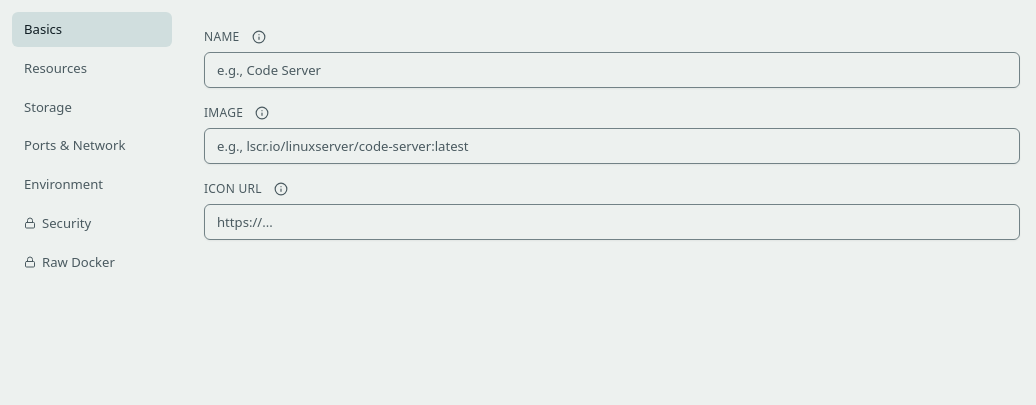
TemplateBuilder › renders section rail and switches to Resources panel
Click the button "Resources": (92, 68) [12, 51, 172, 86]
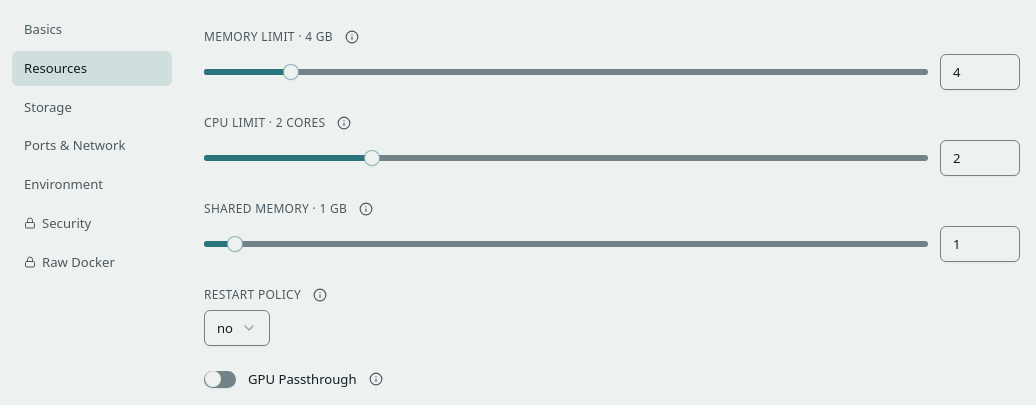
Check: the text "Memory Limit · 4 GB" is shown, box [204, 28, 359, 45]
